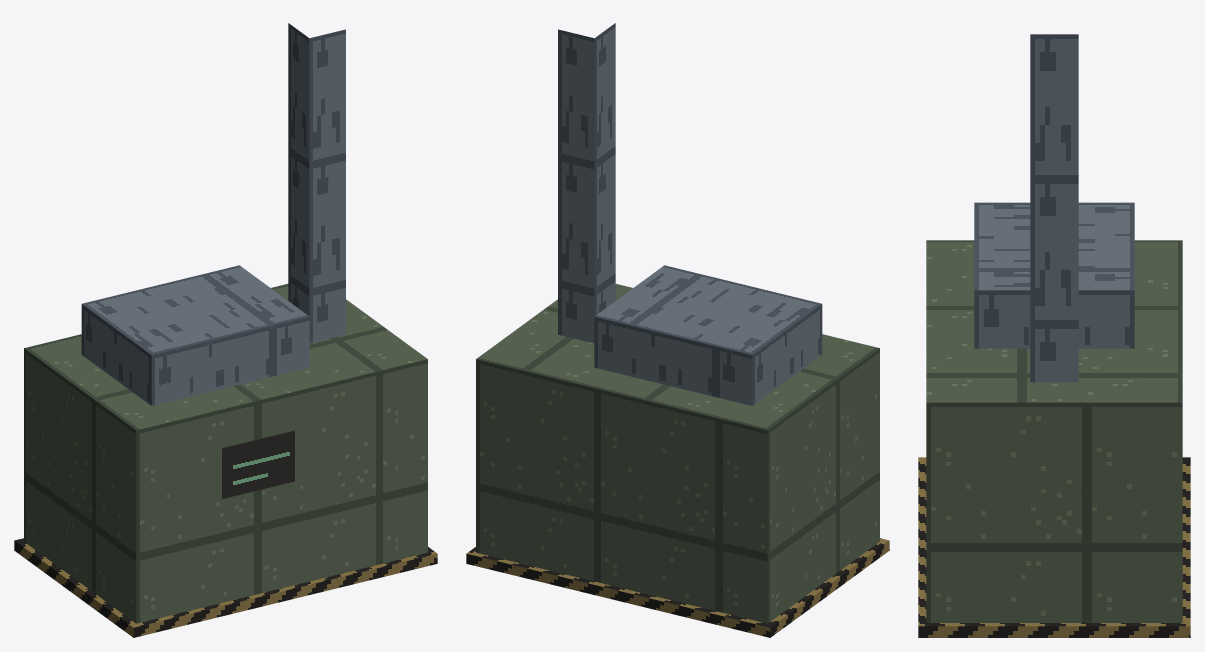
Rendered from generator.glb.
The picture shows the model from 3 angles, left to right: view 1: azimuth 30°, elevation 25°; view 2: azimuth 150°, elevation 25°; view 3: azimuth 270°, elevation 25°; orthographic projection. The views are drawn at different scales.
Parts seen in each view (by area): view 1: generator mesh; view 2: generator mesh; view 3: generator mesh.
Boxes of the visible parts, left/top/right/bottom form: generator mesh: left=14, top=23, right=437, bottom=637; generator mesh: left=466, top=23, right=889, bottom=637; generator mesh: left=918, top=34, right=1190, bottom=637.
Size of the model in its own units: 2.5 by 4 by 1.7.
4 materials, 4 textured.
